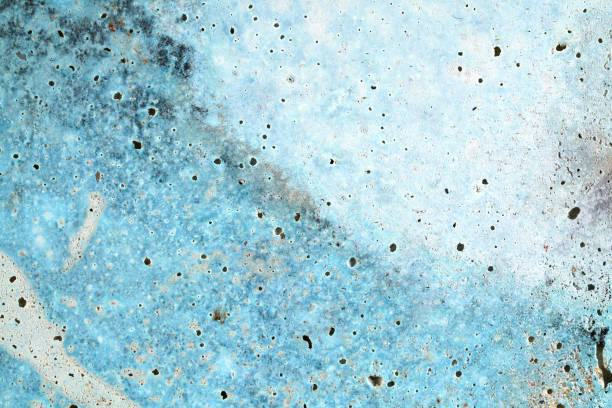Spalling: (1, 1, 612, 408)
